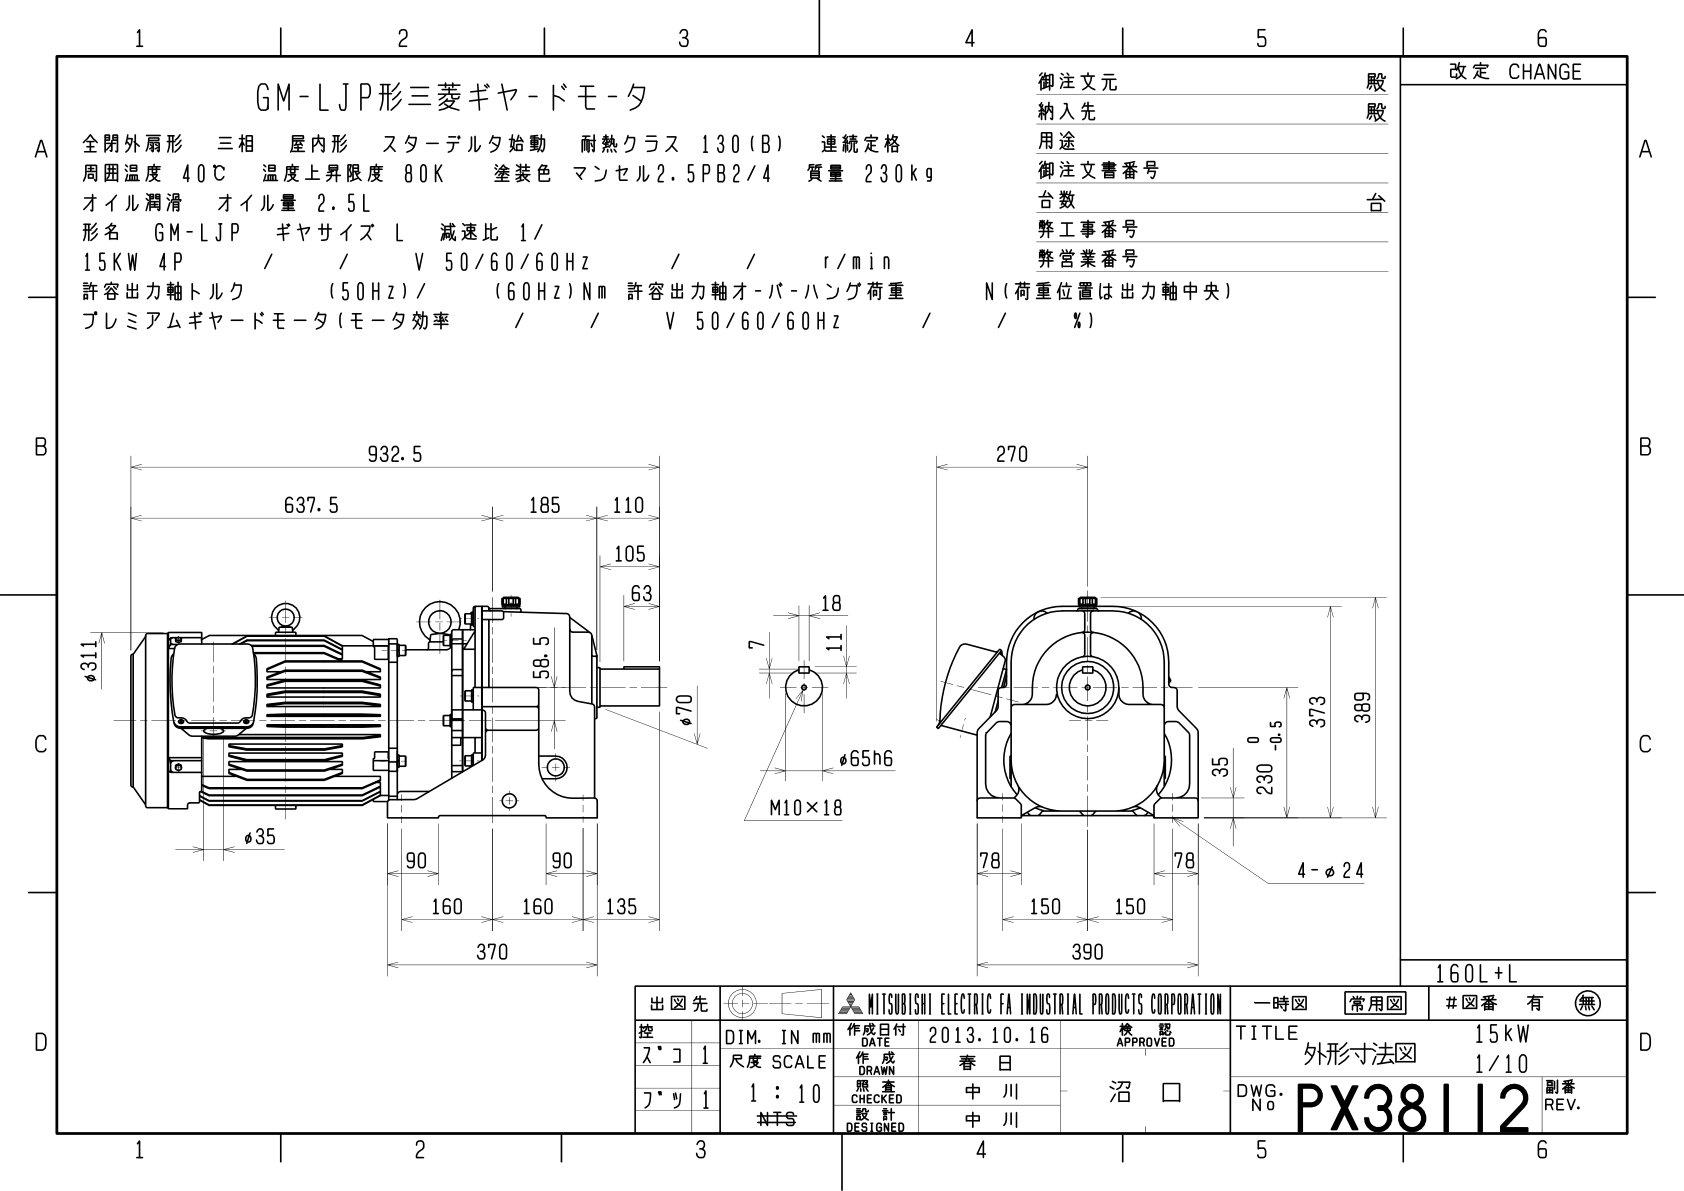GM_LJP_屋内_三相_脚: (63, 385, 1389, 973)
